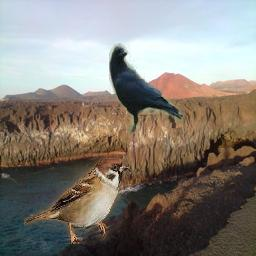Crow: (109, 43, 183, 133)
Sparrow: (24, 156, 128, 245)
